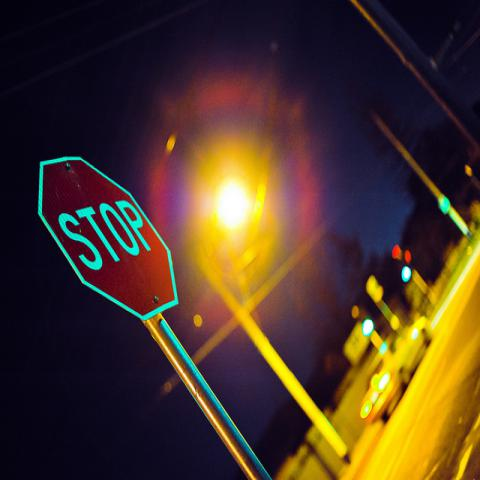car: (359, 314, 432, 426)
